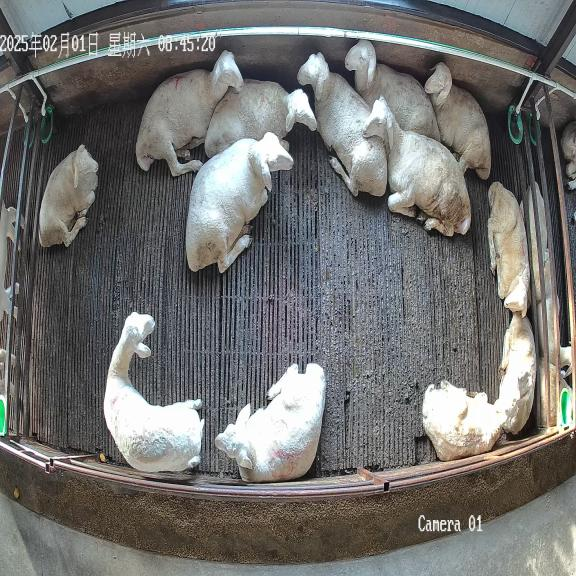lying: (363, 96, 471, 236), (186, 132, 293, 272), (136, 51, 243, 176), (215, 363, 325, 482), (297, 52, 387, 196), (345, 39, 441, 142), (205, 79, 317, 158), (424, 62, 491, 180), (422, 380, 506, 460), (39, 144, 98, 246), (488, 182, 529, 316), (494, 312, 536, 433)
stand: (103, 312, 204, 472)
